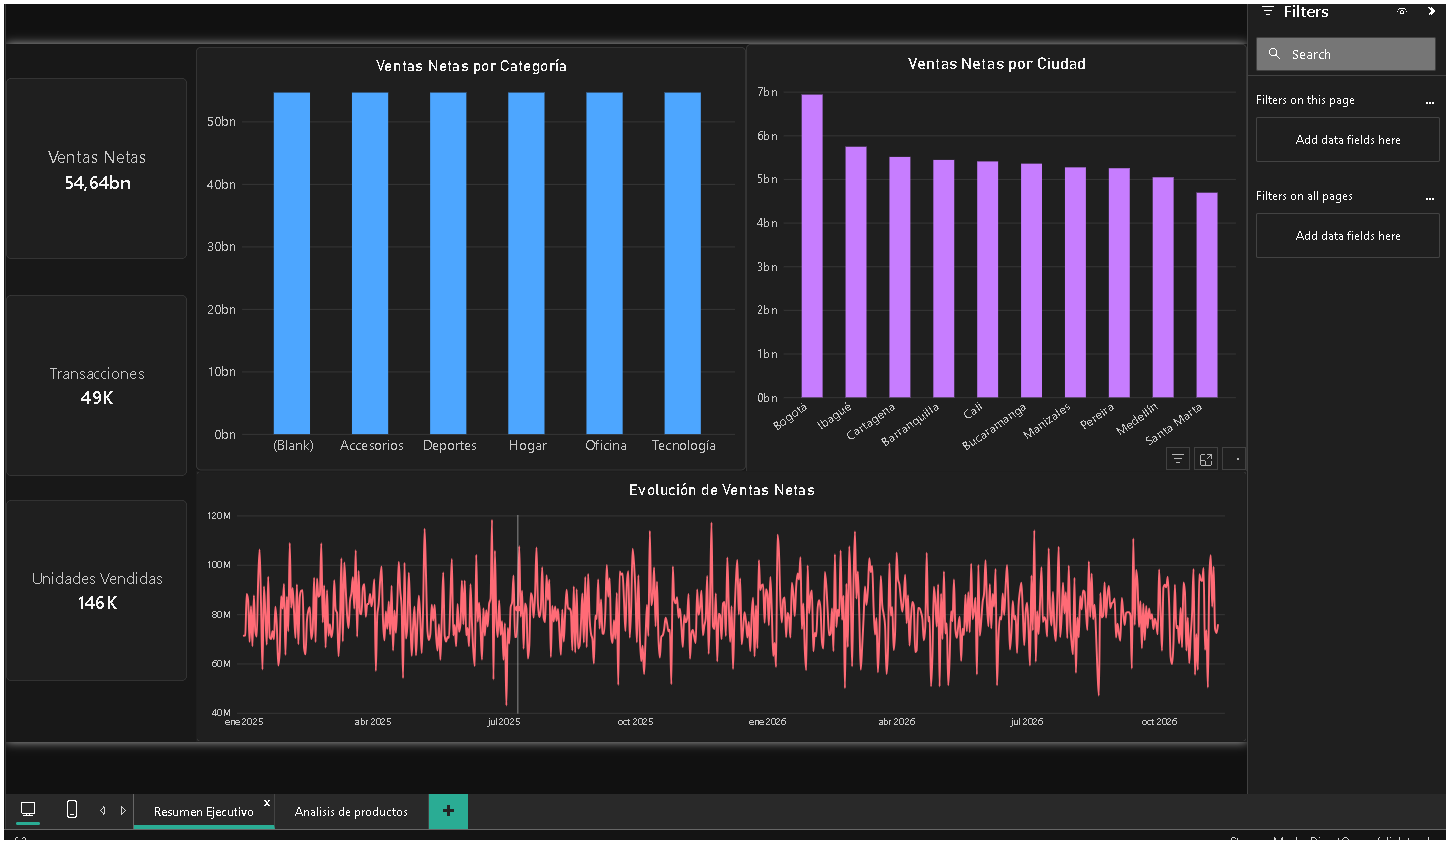

The page's visual inventory and layout, read from the dashboard file:
{"tool":"powerbi","page":{"name":"Resumen Ejecutivo","canvas":[1920,1080],"ordinal":0},"visuals":[{"type":"cardVisual","fields":{"Data":["fact_sales.Ventas Netas"]},"box":[0,53.3,280,280],"z":0},{"type":"cardVisual","fields":{"Data":["fact_sales.Transacciones"]},"box":[0,388.5,280,280],"z":1},{"type":"cardVisual","fields":{"Data":["fact_sales.Unidades Vendidas"]},"box":[0,704.7,280,280],"z":2},{"type":"lineClusteredColumnComboChart","title":"Ventas Netas por Categoría","fields":{"Category":["dim_product.category"],"Y":["fact_sales.Ventas Netas"]},"box":[293.9,5.2,850.9,654.9],"z":3},{"type":"columnChart","title":"Ventas Netas por Ciudad","fields":{"Category":["dim_customer.city"],"Y":["fact_sales.Ventas Netas"]},"box":[1144.8,0,775.2,668.6],"z":4},{"type":"lineChart","title":"Evolución de Ventas Netas","fields":{"Category":["dim_date.full_date"],"Y":["fact_sales.Ventas Netas"]},"box":[293.9,660.1,1626.1,419.4],"z":5}]}

Visuals, with their boxes on the page's 1920x1080 design canvas (x1, y1, x2, y2). These are canvas units, not pixel positions in the 1450x844 screenshot, which may show the page scaled, cropped or inside an application window:
cardVisual - fact_sales.Ventas Netas: region(0, 53, 280, 333)
cardVisual - fact_sales.Transacciones: region(0, 388, 280, 668)
cardVisual - fact_sales.Unidades Vendidas: region(0, 705, 280, 985)
"Ventas Netas por Categoría" lineClusteredColumnComboChart: region(294, 5, 1145, 660)
"Ventas Netas por Ciudad" columnChart: region(1145, 0, 1920, 669)
"Evolución de Ventas Netas" lineChart: region(294, 660, 1920, 1080)
